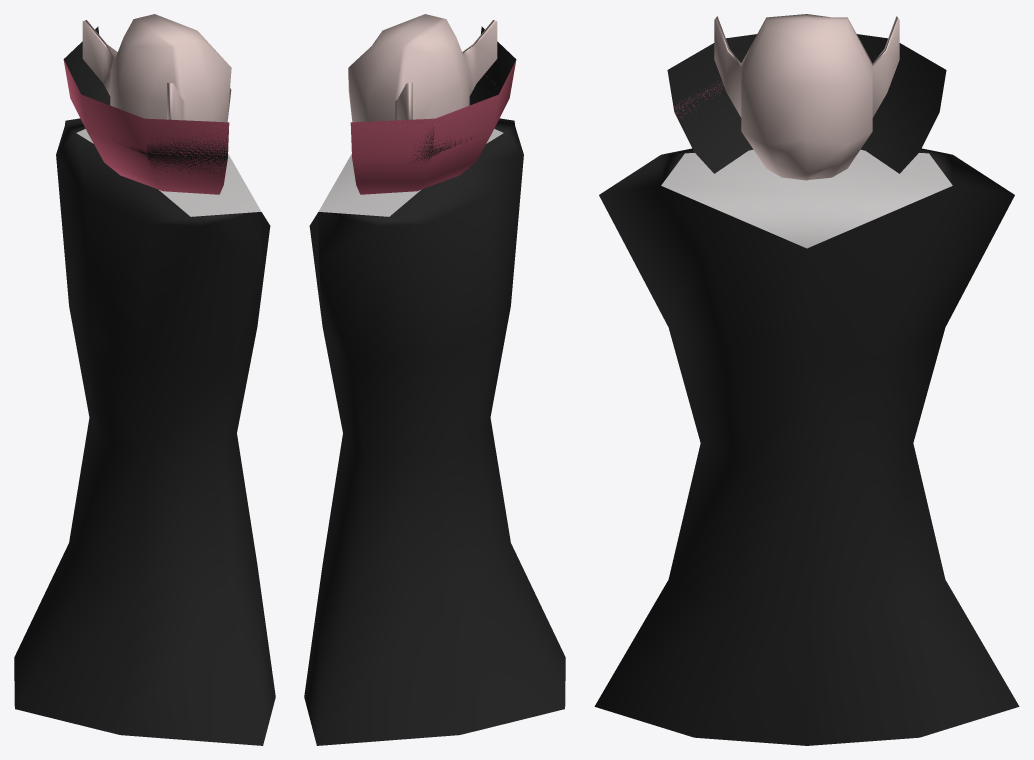
Rendered from vampire.fbx.
The picture shows the model from 3 angles, left to right: view 1: azimuth 30°, elevation 25°; view 2: azimuth 150°, elevation 25°; view 3: azimuth 270°, elevation 25°; orthographic projection. The views are drawn at different scales.
Visible parts, largest first — view 1: pSphere4; view 2: pSphere4; view 3: pSphere4.
Boxes of the visible parts, <box> form: pSphere4: <box>14,14,275,745</box>; pSphere4: <box>304,14,565,745</box>; pSphere4: <box>594,14,1019,745</box>.
Bounding box in the file's own units: 4.8 × 13.16 × 7.41.
